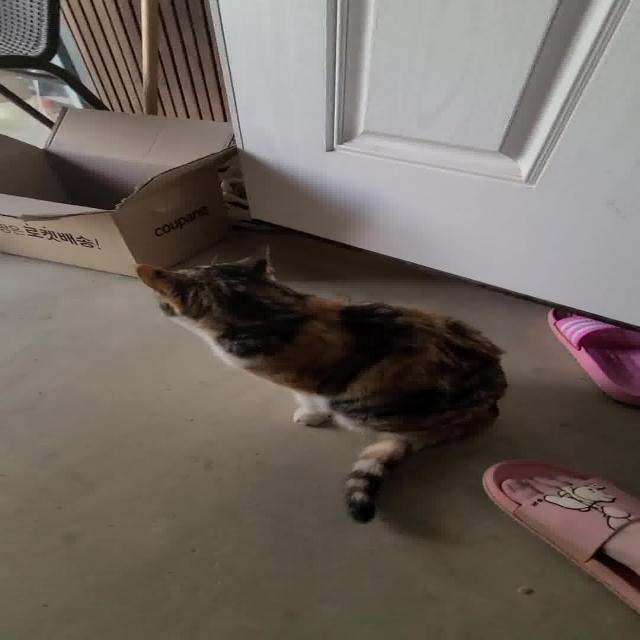cat: (112, 228, 504, 518)
